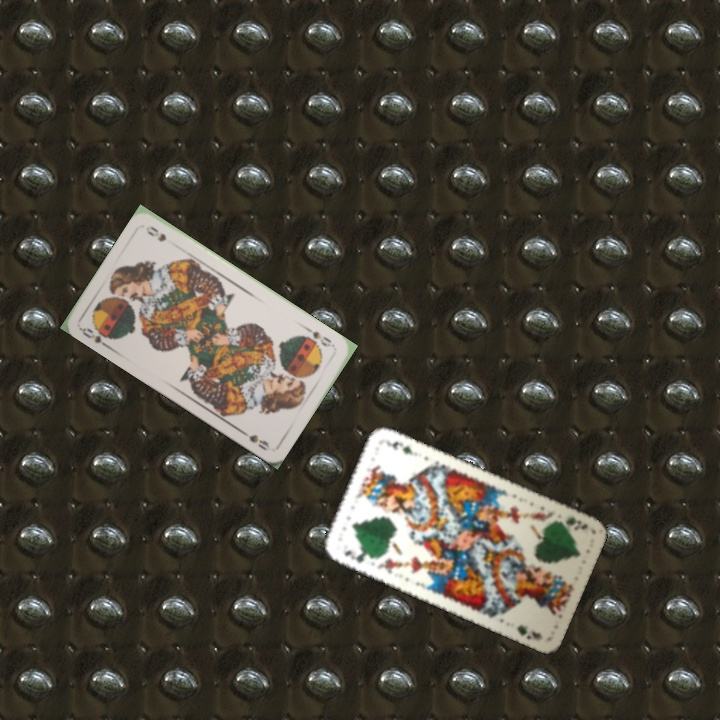GK: (340, 546, 375, 566), (561, 513, 590, 532)
SO: (76, 321, 117, 351), (302, 323, 337, 350)
